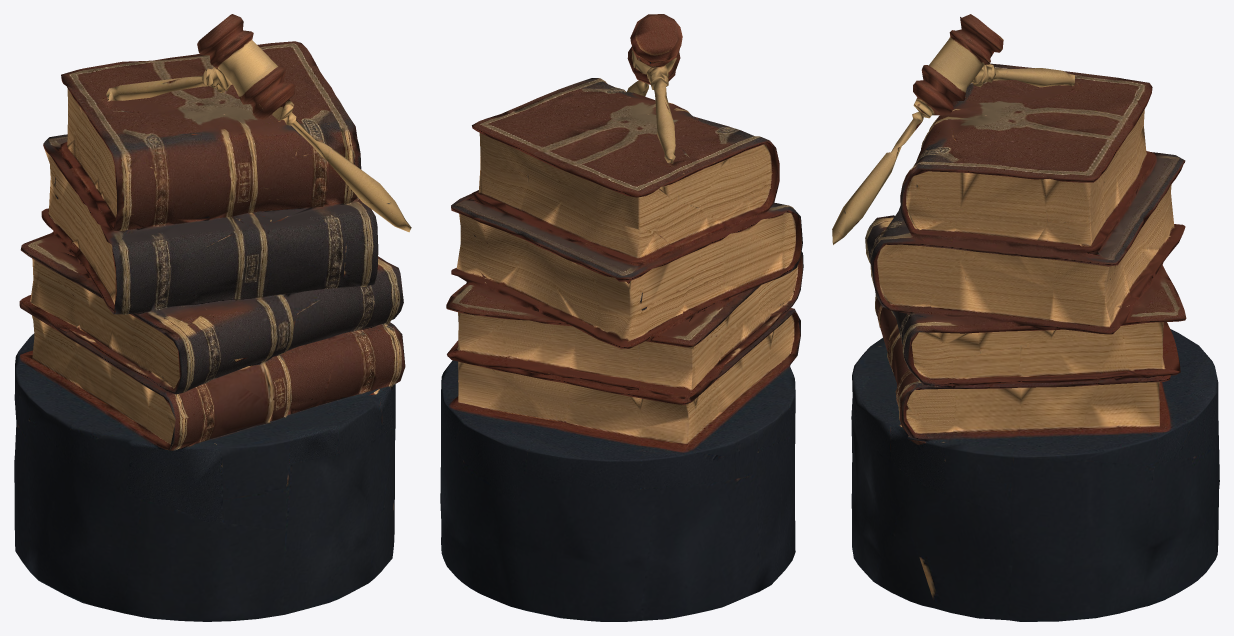
Rendered from co_books.glb.
3 renders of one model, left to right at view 1: azimuth 30°, elevation 25°; view 2: azimuth 150°, elevation 25°; view 3: azimuth 270°, elevation 25°, orthographic. The views are drawn at different scales.
Size of the model in its own units: 1.2 by 1.9 by 1.27.
Materials: 1 (1 with a texture image).
